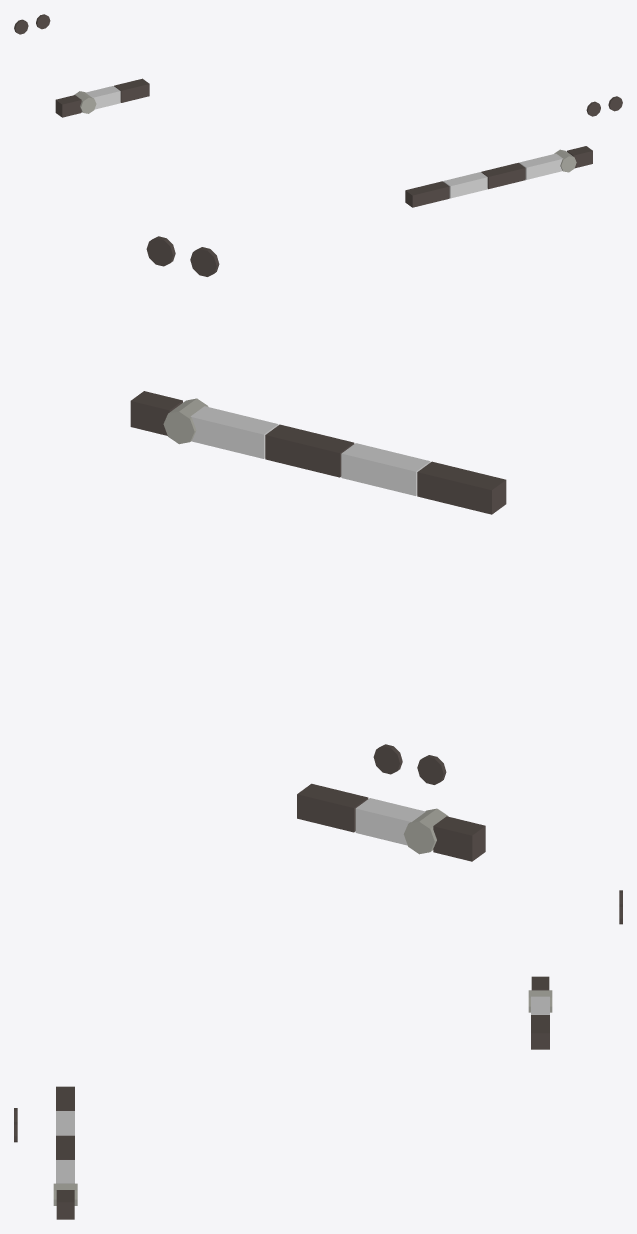
Rendered from SM_PasoNivel_90_v2_Abandonado_LOD1.fbx.
3 renders of one model, top to bottom at view 1: azimuth 30°, elevation 25°; view 2: azimuth 150°, elevation 25°; view 3: azimuth 270°, elevation 25°, orthographic. The views are drawn at different scales.
Visible parts, largest first — view 1: Barrera_1, Barrera_2, Luces_B, Luces_A; view 2: Barrera_1, Barrera_2, Luces_B, Luces_A; view 3: Barrera_1, Barrera_2.
Part boxes in pixels (box(x1,y1,x2,y2)): Barrera_1: box(405, 146, 592, 207); Barrera_2: box(55, 78, 149, 117); Luces_B: box(36, 14, 622, 111); Luces_A: box(14, 19, 600, 116); Barrera_1: box(130, 391, 506, 514); Barrera_2: box(297, 783, 485, 861); Luces_B: box(146, 236, 402, 774); Luces_A: box(190, 247, 446, 784); Barrera_1: box(53, 1086, 77, 1219); Barrera_2: box(528, 976, 552, 1049).
Size of what is drawn, in the model's own units: 9.7 by 1.91 by 10.26.
